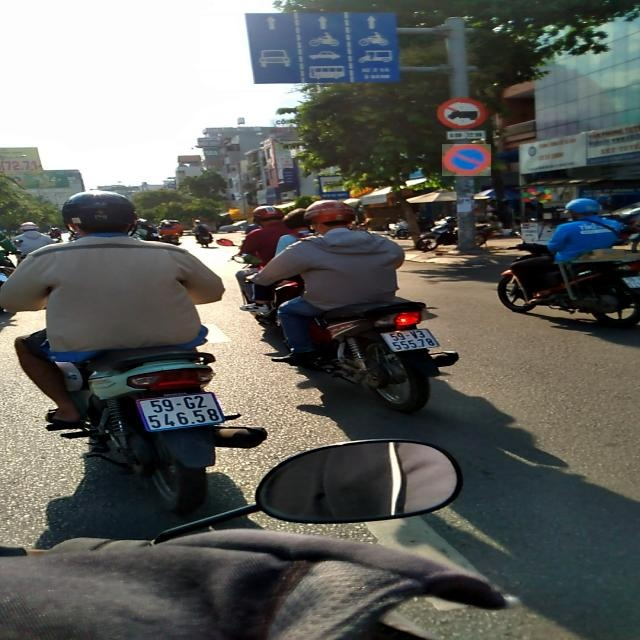bien_cam: (437, 97, 488, 128), (442, 144, 491, 176)
